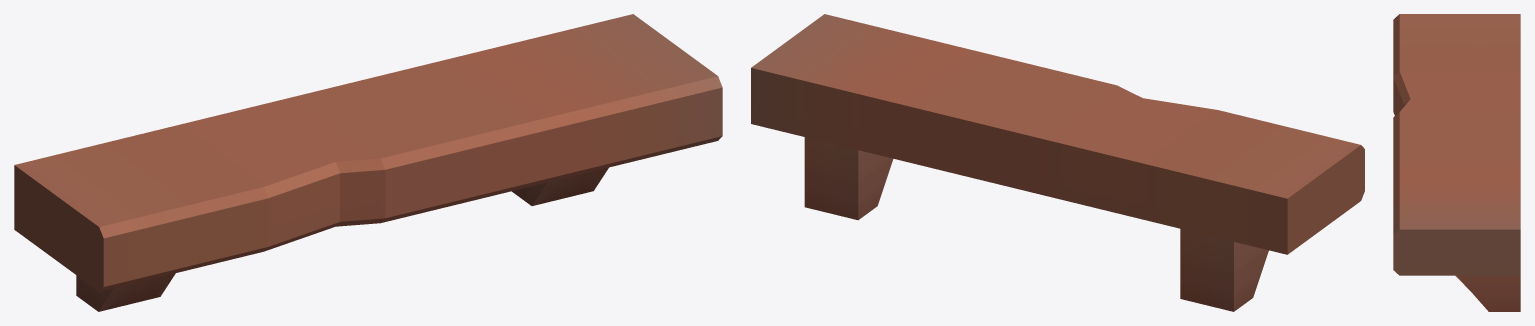
File: shelf_large.glb
The picture shows the model from 3 angles, left to right: view 1: azimuth 30°, elevation 25°; view 2: azimuth 150°, elevation 25°; view 3: azimuth 270°, elevation 25°; orthographic projection. The views are drawn at different scales.
Visible parts, largest first — view 1: shelf_large; view 2: shelf_large; view 3: shelf_large.
Boxes of the visible parts, x1,y1,x2,y2 form: shelf_large: (14,14,722,311); shelf_large: (751,14,1364,311); shelf_large: (1393,14,1520,311).
Bounding box in the file's own units: 2 × 0.45 × 0.5001.
Materials: 1 (1 with a texture image).
